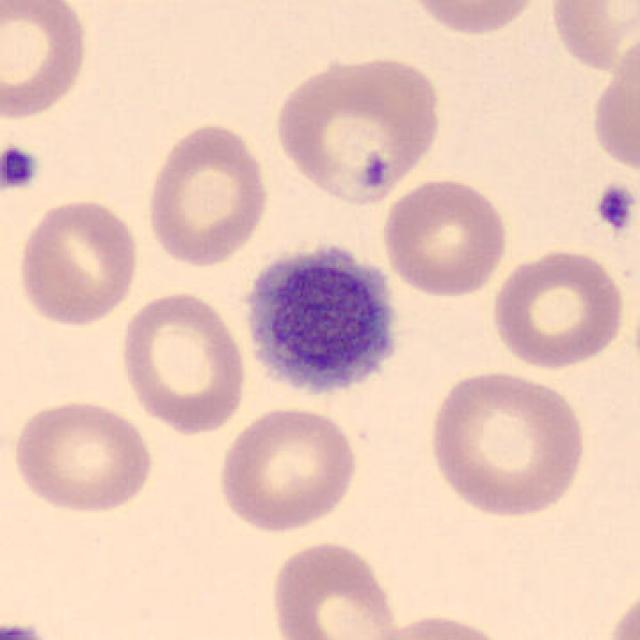platelets: (257, 257, 396, 382), (591, 180, 640, 235), (2, 147, 39, 191)
rbc: (438, 362, 594, 524), (279, 55, 442, 205), (140, 122, 276, 281), (118, 283, 257, 437), (221, 411, 366, 544), (14, 402, 151, 522), (264, 532, 412, 640), (494, 247, 624, 369), (384, 174, 504, 299), (25, 202, 144, 328), (0, 0, 102, 121), (583, 39, 640, 164), (551, 0, 640, 78), (419, 0, 546, 50), (386, 594, 496, 640), (593, 594, 640, 640)
